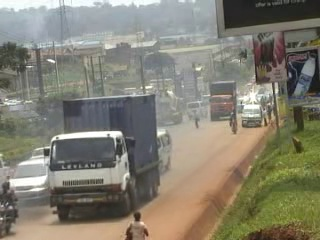Car: (5, 155, 56, 205), (27, 143, 53, 164)
Motorcycle: (0, 178, 20, 238), (228, 106, 240, 136)
